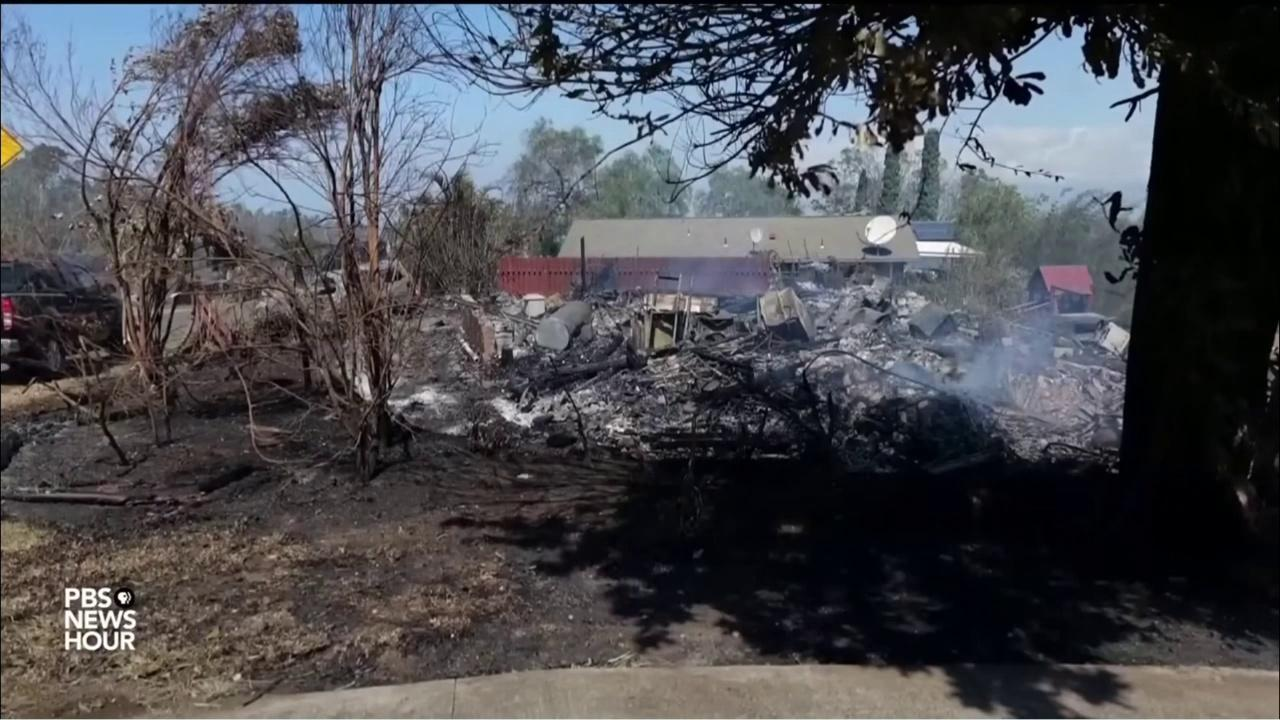smoke: (883, 298, 1060, 411), (659, 242, 766, 298)
